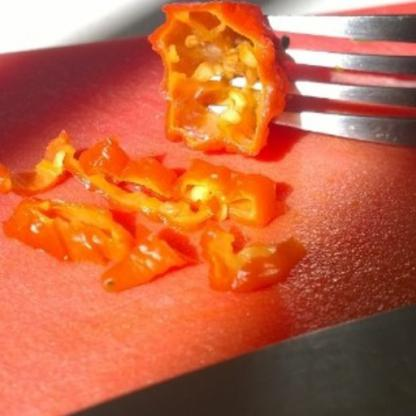knife: (0, 248, 415, 415)
